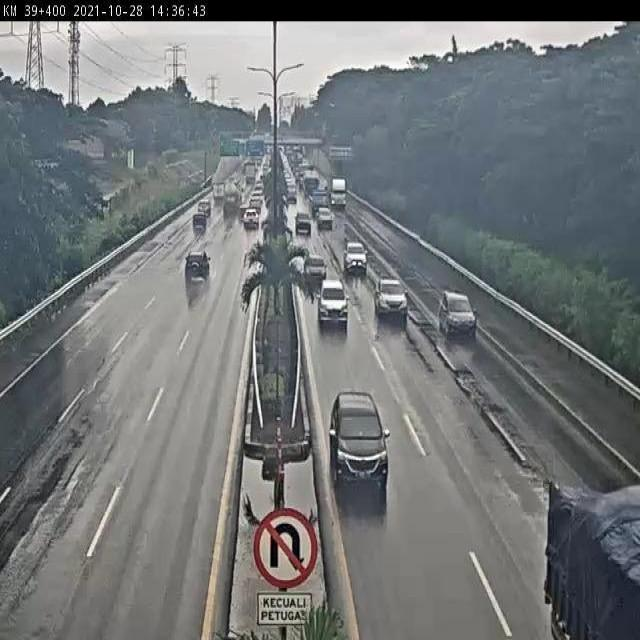big truck: (511, 440, 632, 611), (328, 181, 345, 204), (226, 185, 240, 212)
car: (326, 357, 374, 443), (370, 269, 401, 311), (178, 263, 201, 300), (432, 283, 457, 316), (342, 239, 364, 268), (323, 275, 338, 312), (303, 247, 320, 272), (238, 213, 257, 232), (297, 211, 311, 233), (190, 220, 204, 236), (197, 203, 211, 217), (314, 207, 326, 221), (250, 203, 262, 213)
